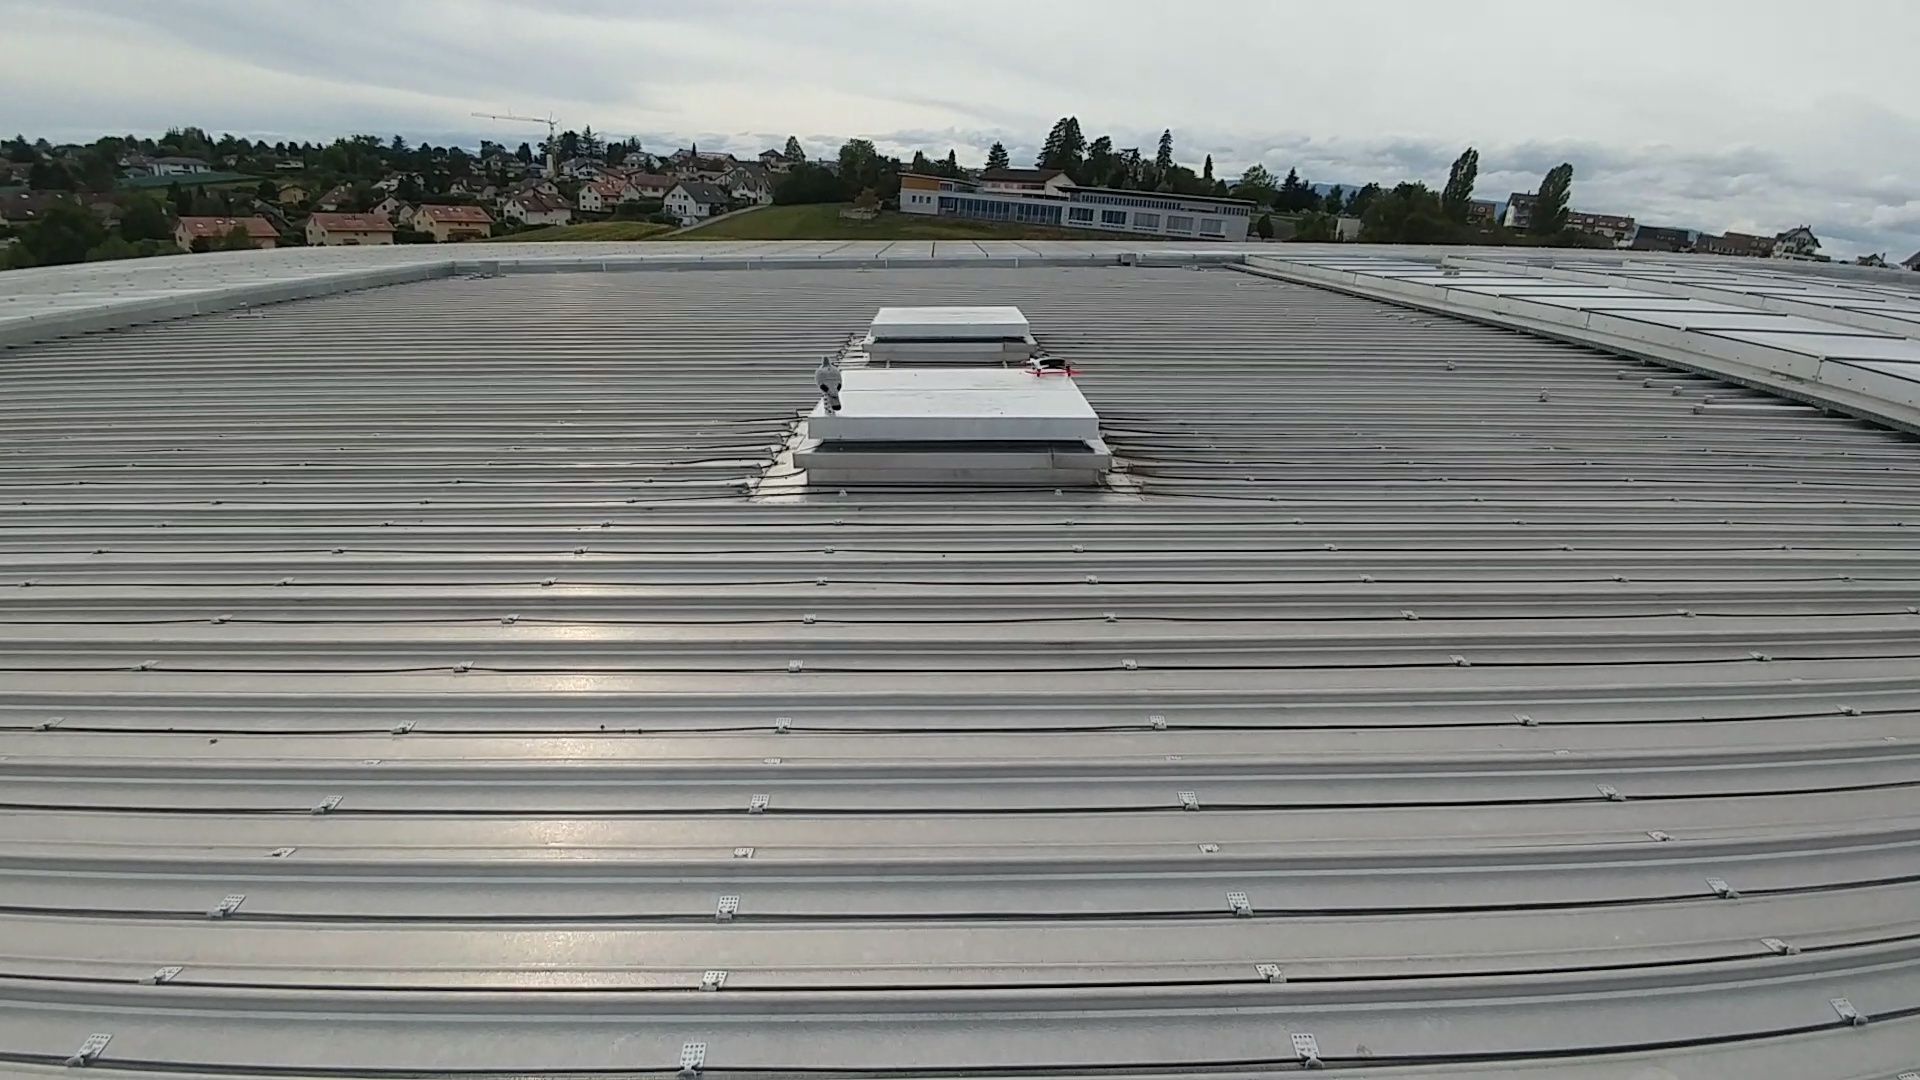Pigeon: (810, 349, 843, 415)
